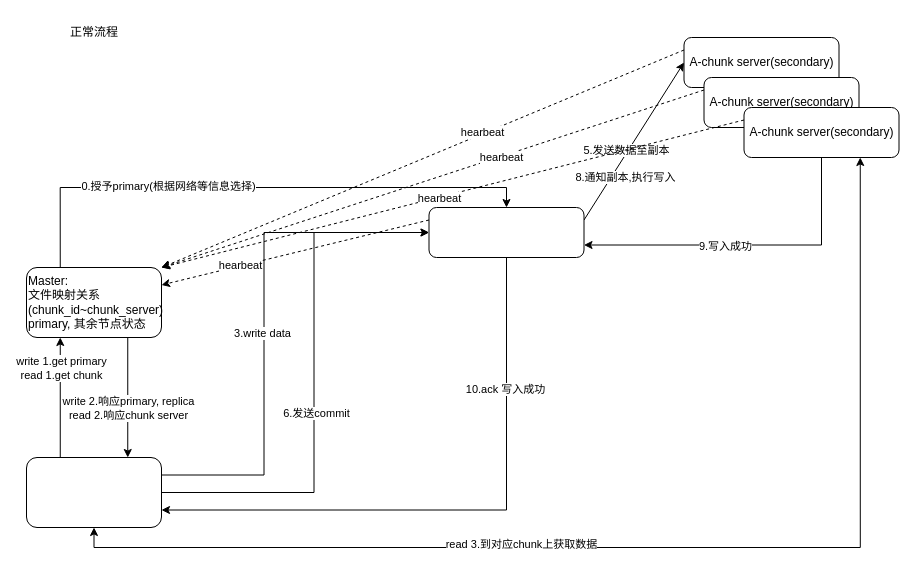
This 917x574 diagram has some shape labels left out. The shapes that lost their labels are listed below. From the top down, each one's centre as x and y in pixels, then its label:
(506,232): A-chunk server(primary) 4.数据暂存缓冲区 7.分配写入序号
(94,492): Client: write(data) read(chunk id)
